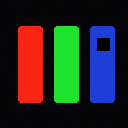1 square: (97, 38, 109, 50)
